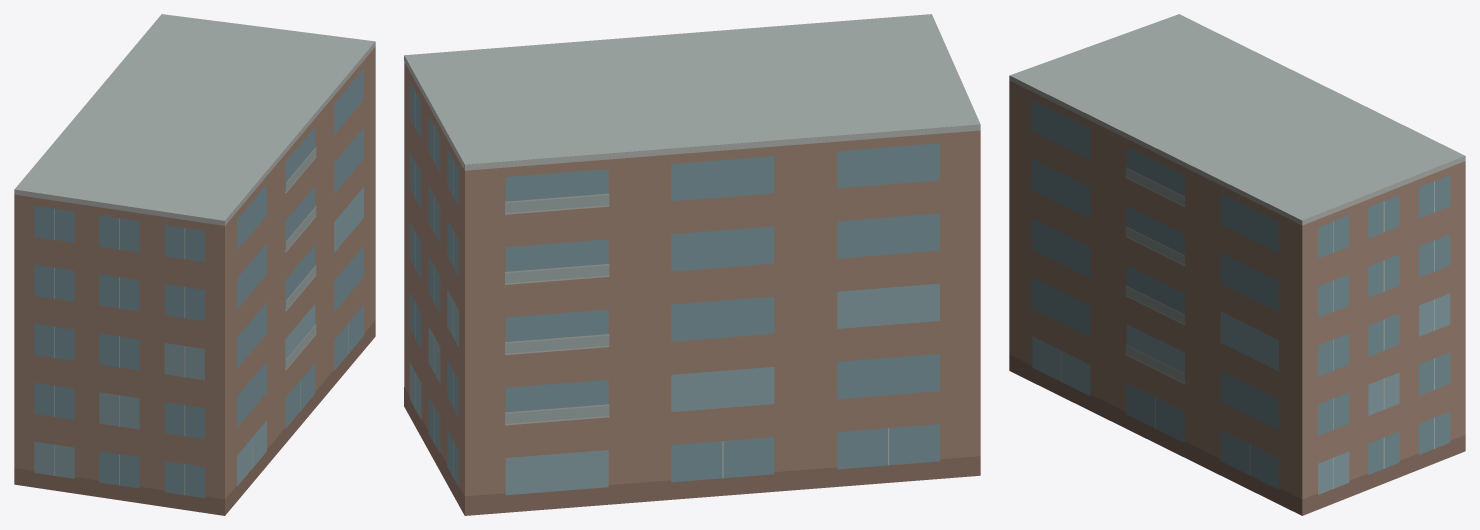
The model's file is survey-upis-32634191.glb.
3 renders of one model, left to right at view 1: azimuth 30°, elevation 25°; view 2: azimuth 150°, elevation 25°; view 3: azimuth 270°, elevation 25°, orthographic. The views are drawn at different scales.
Visible parts, largest first — view 1: survey-upis-32634191.tmp; view 2: survey-upis-32634191.tmp; view 3: survey-upis-32634191.tmp.
Boxes of the visible parts, box(x1,y1,x2,y2) form: survey-upis-32634191.tmp: box(14, 14, 375, 515); survey-upis-32634191.tmp: box(404, 14, 980, 515); survey-upis-32634191.tmp: box(1009, 14, 1465, 515).
Bounding box in the file's own units: 21.3 × 14.2 × 19.88.
